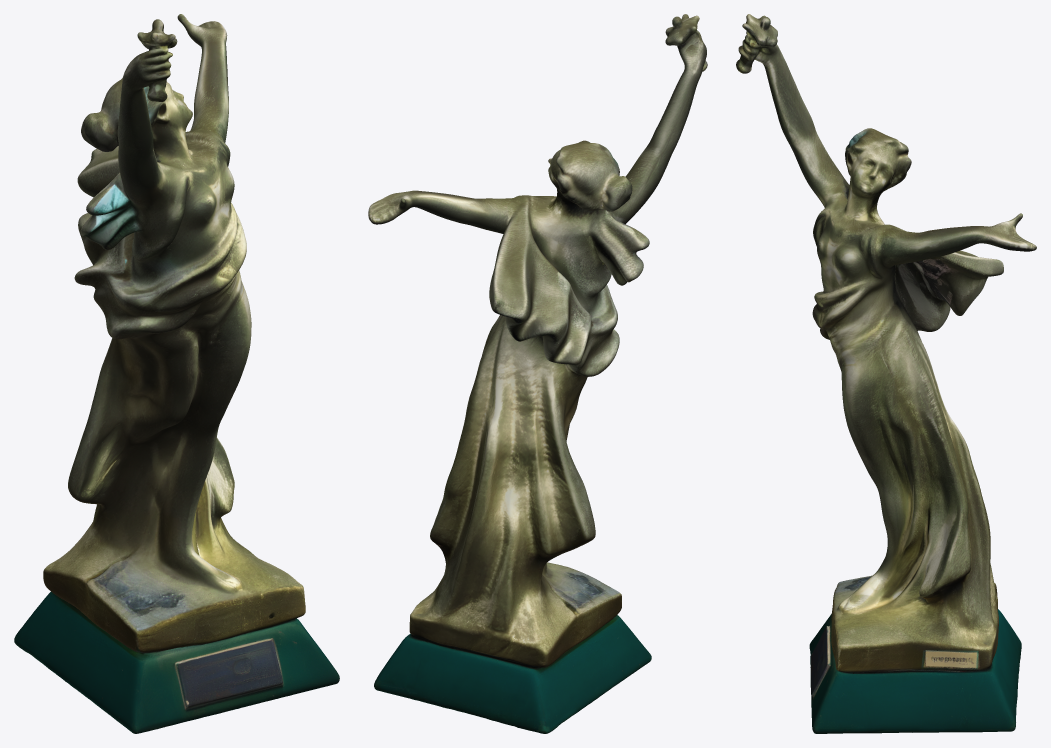
Rendered from statue.glb.
The picture shows the model from 3 angles, left to right: view 1: azimuth 30°, elevation 25°; view 2: azimuth 150°, elevation 25°; view 3: azimuth 270°, elevation 25°; orthographic projection. The views are drawn at different scales.
Bounding box in the file's own units: 0.65 × 1.9 × 0.8222.
1 material, 1 textured.
